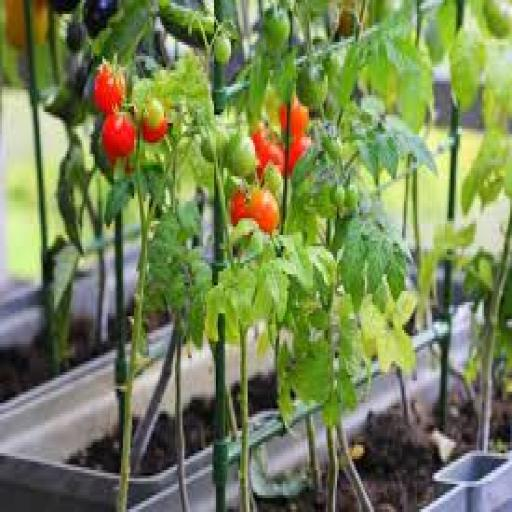tomato: (252, 126, 284, 179), (103, 112, 135, 162), (94, 65, 126, 114), (248, 188, 279, 235), (297, 65, 327, 109), (84, 0, 117, 39), (263, 9, 290, 53), (4, 0, 27, 50), (228, 135, 256, 176), (142, 98, 167, 142), (483, 0, 511, 39), (257, 143, 284, 179), (202, 129, 229, 162), (287, 138, 310, 176), (337, 0, 357, 39), (291, 98, 309, 139), (144, 98, 165, 128), (66, 20, 85, 53), (142, 118, 167, 142), (230, 191, 247, 226), (265, 166, 282, 195), (215, 34, 230, 64), (252, 126, 268, 153), (345, 182, 359, 212), (51, 0, 80, 13), (332, 185, 346, 209)
